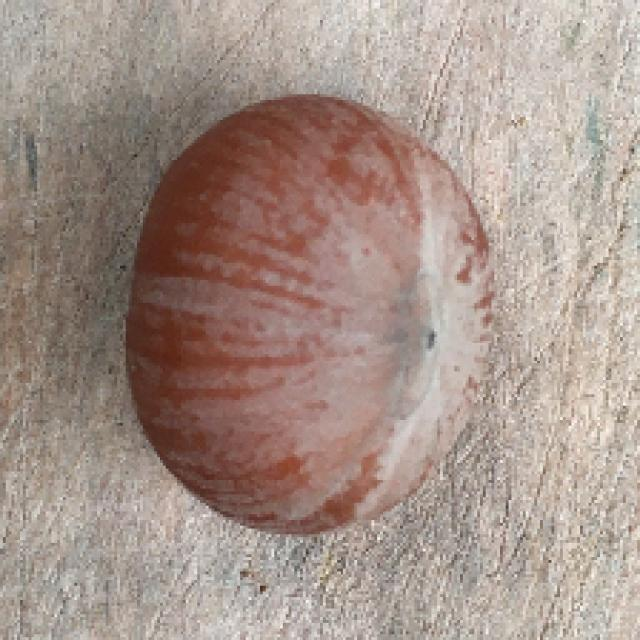QualityHazelnut: (127, 93, 496, 541)
